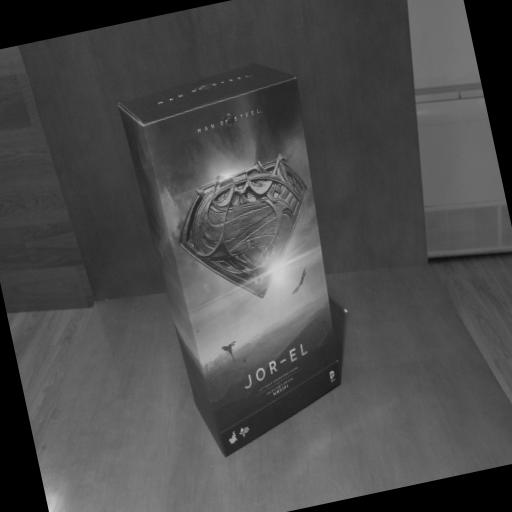superman: (115, 52, 370, 464)
